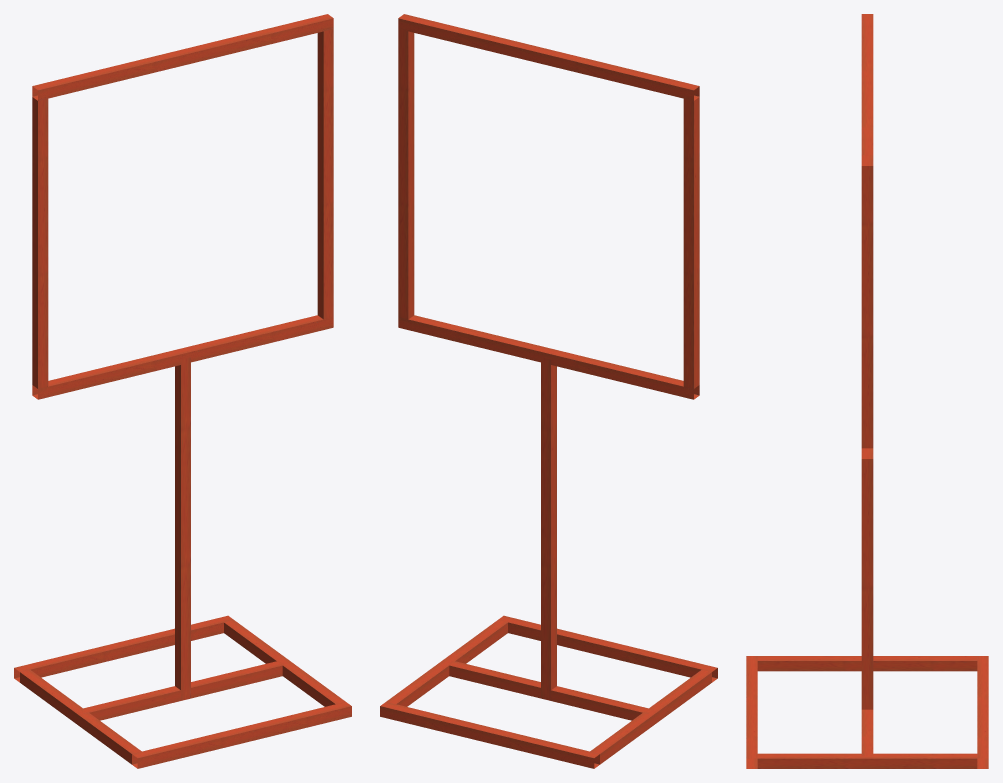
The model's file is normal_gate_2018.dae.
3 views of the same model, side by side, from view 1: azimuth 30°, elevation 25°; view 2: azimuth 150°, elevation 25°; view 3: azimuth 270°, elevation 25° (orthographic).
Parts seen in each view (by area): view 1: stick; view 2: stick; view 3: stick.
Boxes of the visible parts, left/top/right/bottom form: stick: left=14, top=14, right=351, bottom=768; stick: left=380, top=14, right=717, bottom=768; stick: left=746, top=14, right=988, bottom=768.
Bounding box in the file's own units: 1.45 × 1.05 × 3.02.
Materials: 1 (1 with a texture image).
